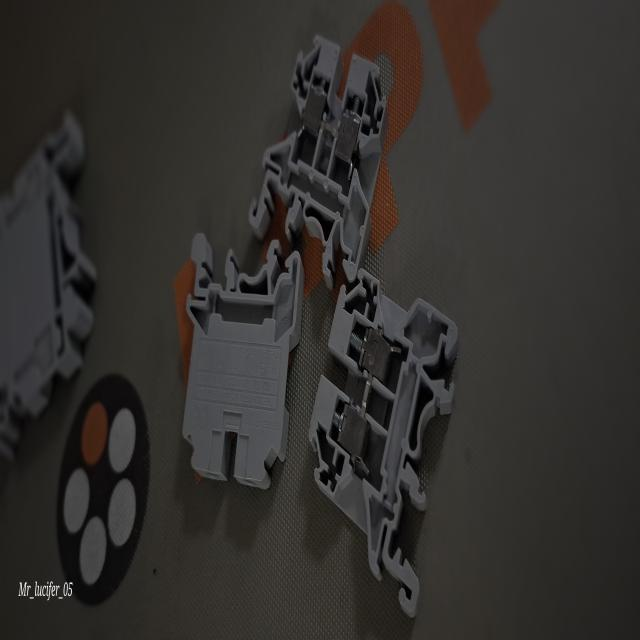Inverted: (182, 223, 304, 504)
Pass: (303, 256, 462, 592), (250, 16, 388, 282)
